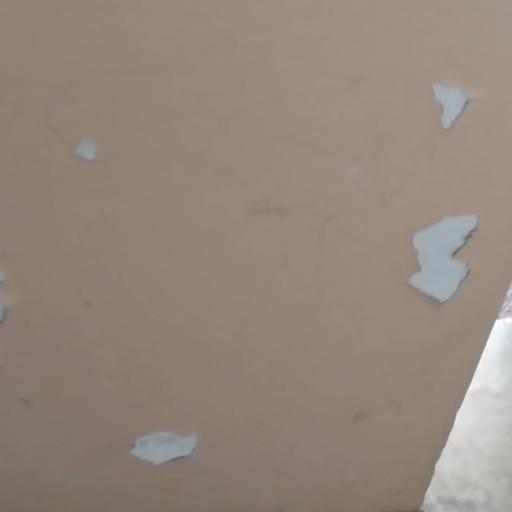peeling: (411, 195, 489, 317), (123, 417, 213, 469), (424, 70, 485, 136), (53, 126, 119, 181)
